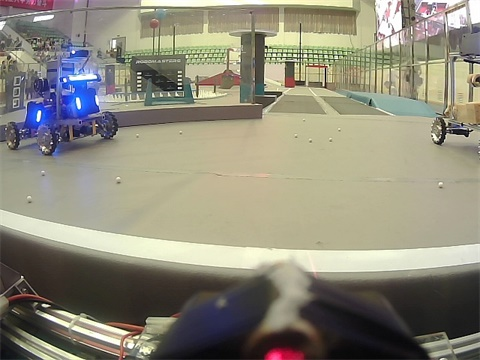chariot: (10, 52, 123, 167)
